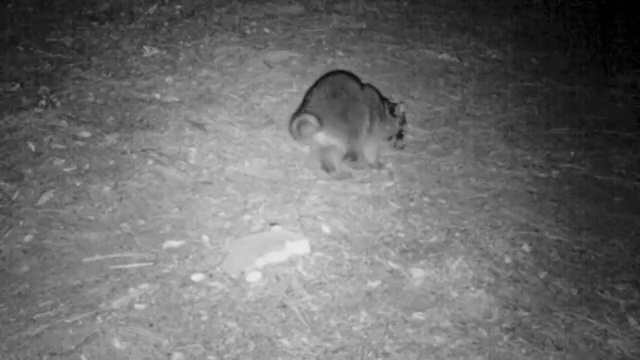raccoon: (287, 68, 411, 179)
